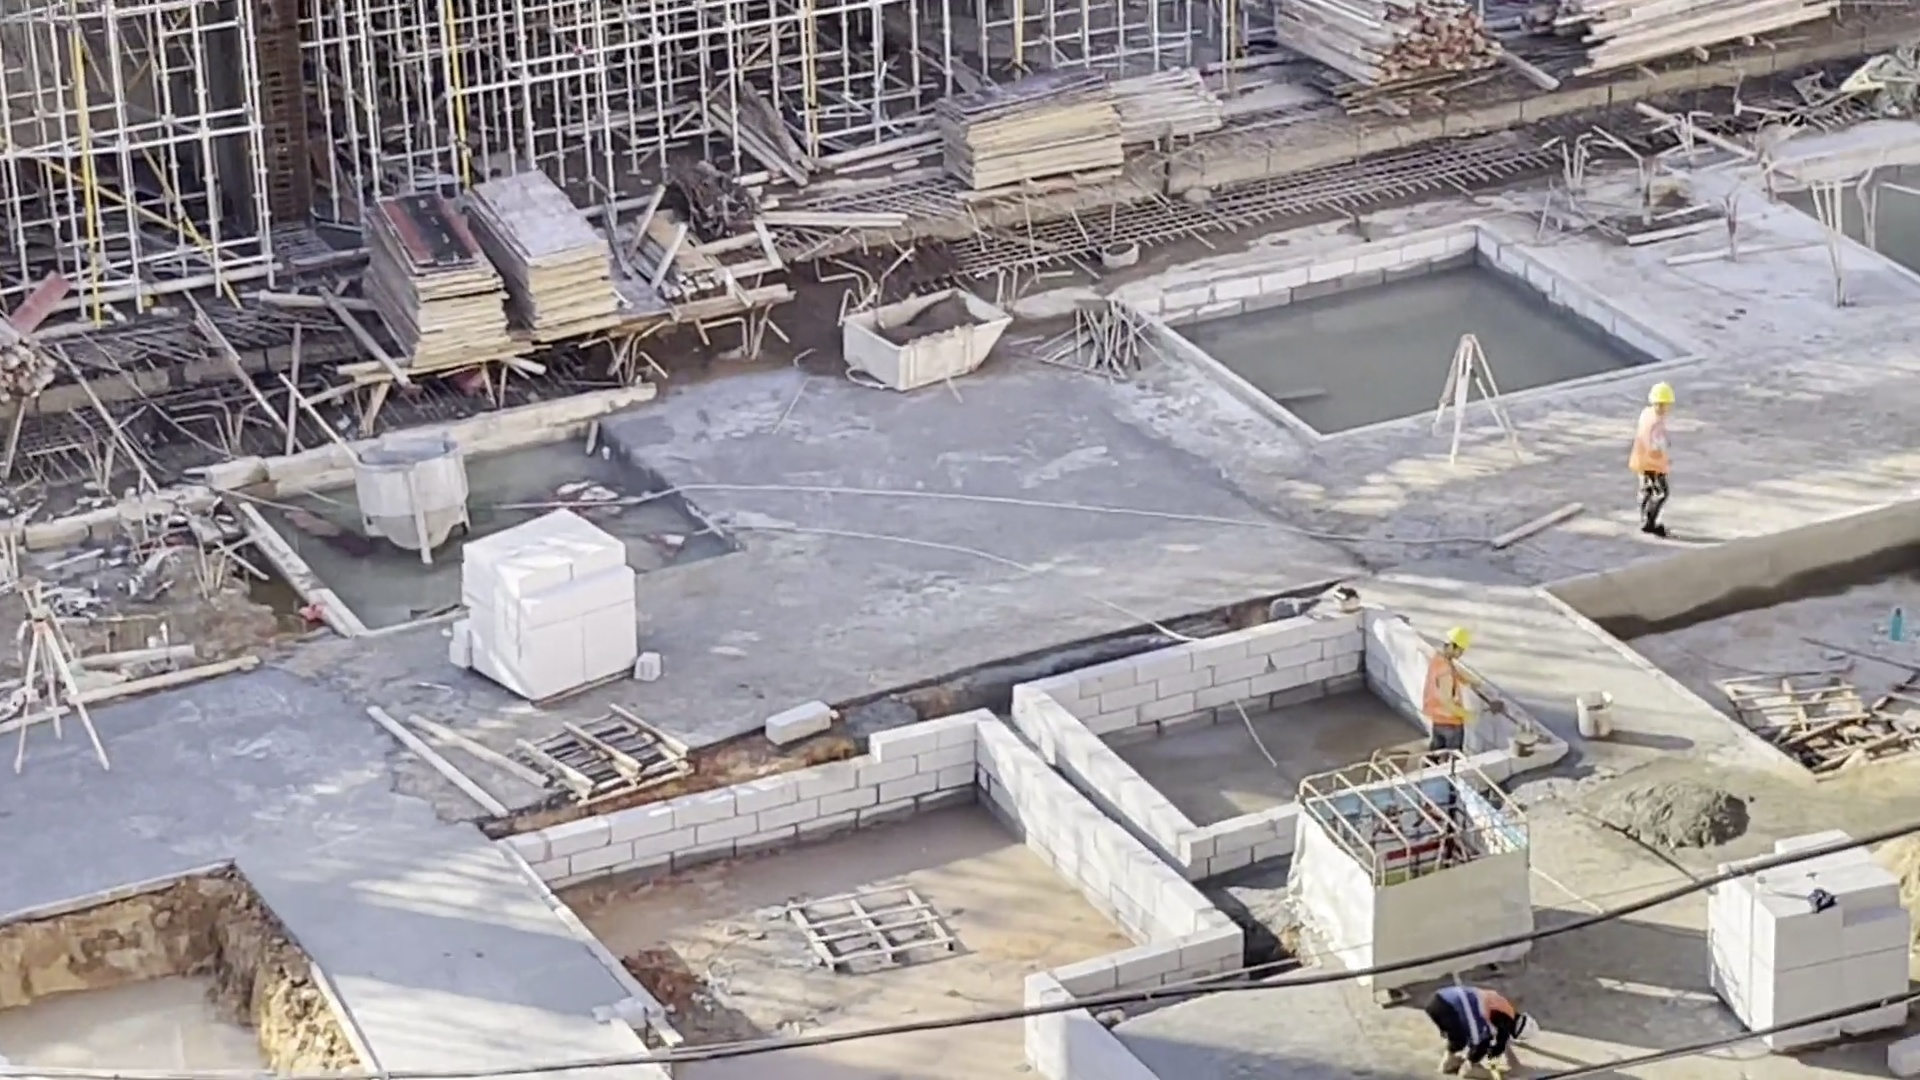board: (483, 174, 634, 346), (923, 81, 1123, 196), (406, 206, 488, 361)
brick: (1719, 852, 1879, 1064), (478, 529, 608, 699)
helmet: (1443, 629, 1476, 661), (1521, 1001, 1544, 1042), (1651, 382, 1673, 421)
hopper: (858, 296, 999, 386)
person: (1434, 981, 1531, 1080), (1636, 381, 1681, 548), (1428, 623, 1474, 738)
vest: (1446, 977, 1506, 1032), (1418, 656, 1451, 736), (1631, 422, 1668, 479)
wood: (1326, 1, 1508, 87), (1579, 1, 1796, 62)
